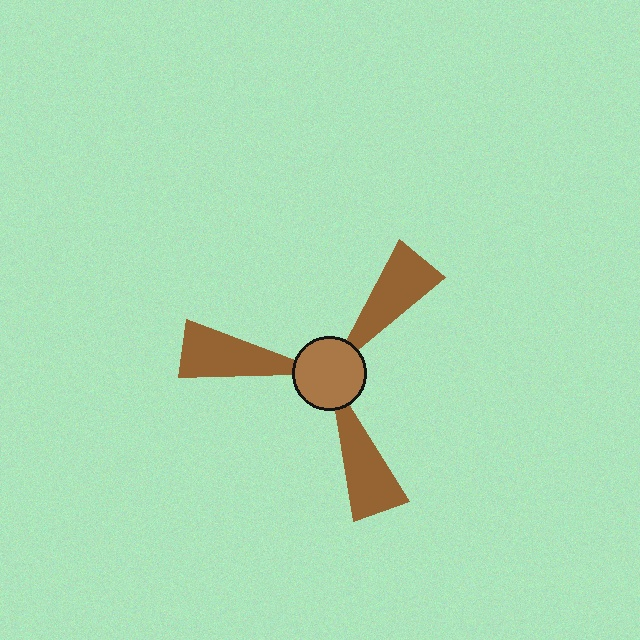fan: (151, 195, 507, 551)
